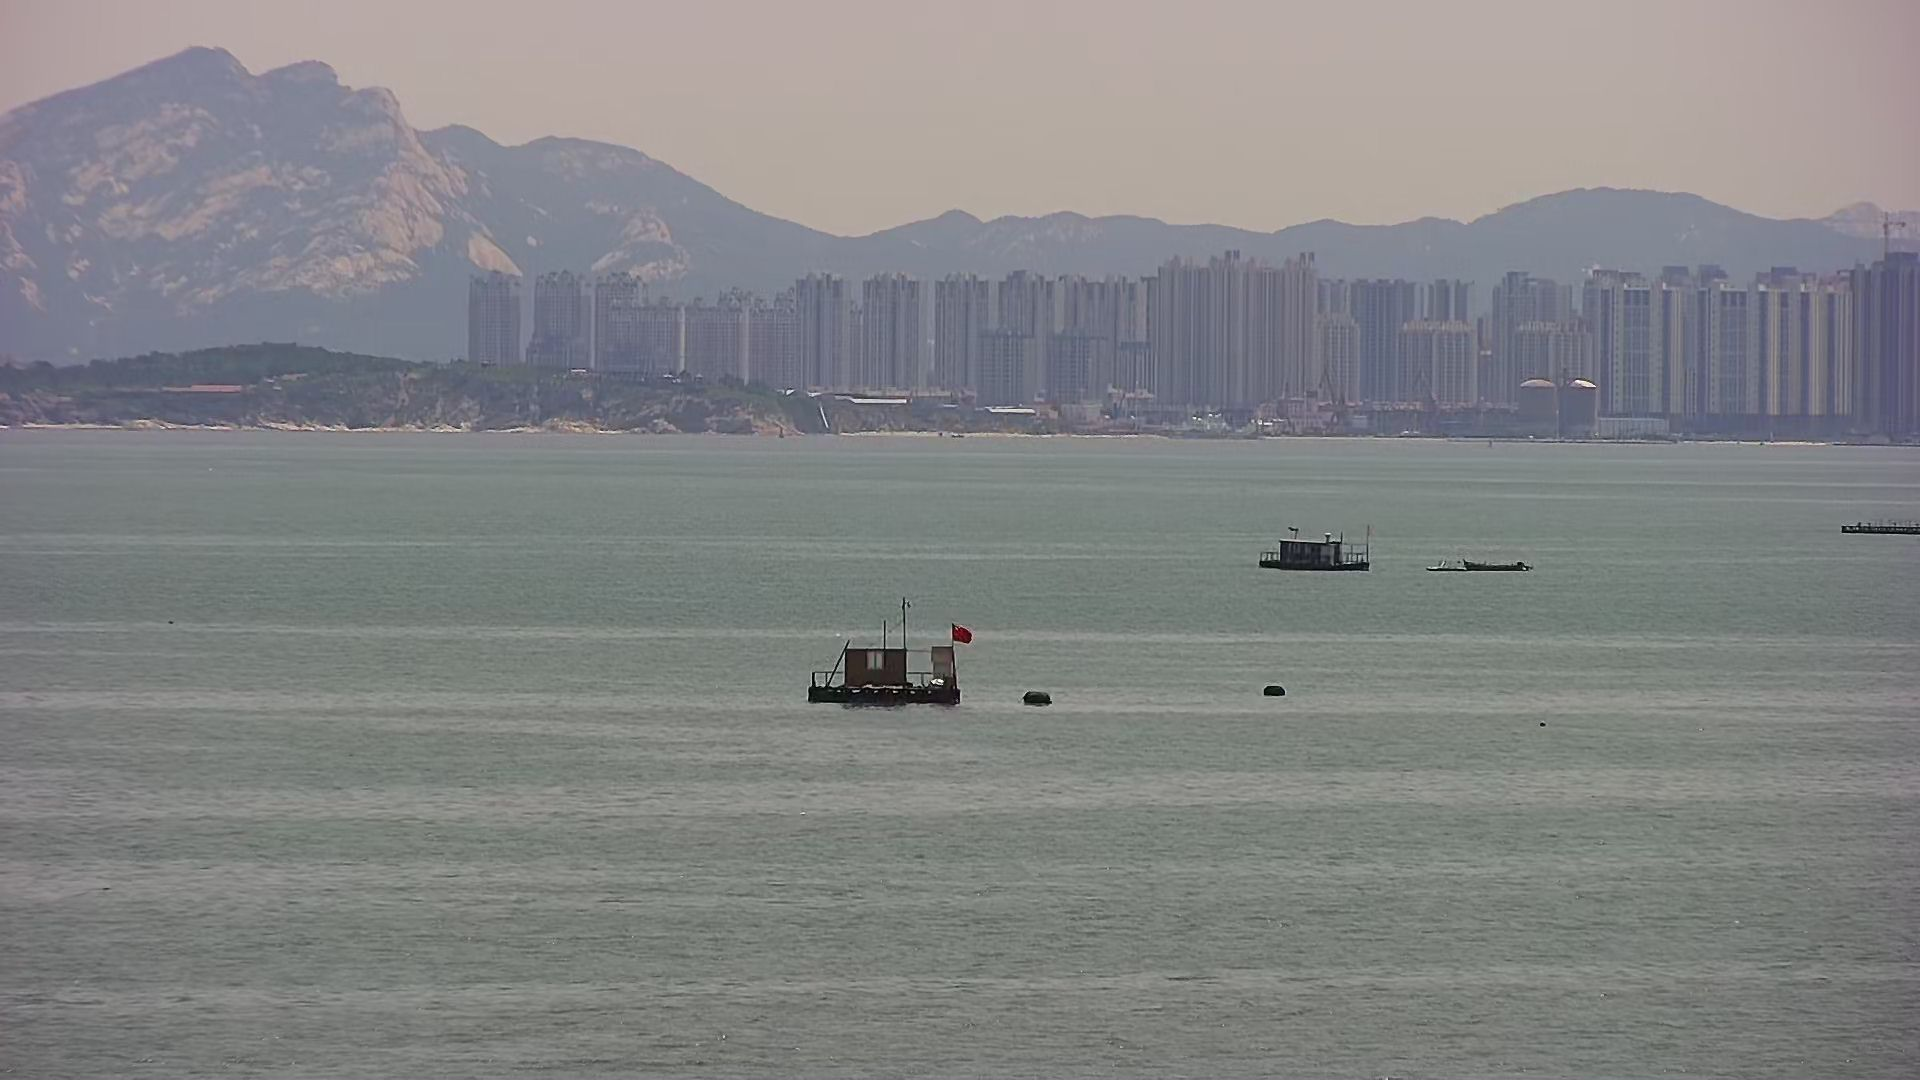ball: (1019, 684, 1054, 709), (1263, 680, 1288, 698)
platform: (807, 597, 977, 717), (1251, 524, 1378, 580), (1844, 522, 1920, 538)
rubbish: (1422, 554, 1540, 576)
